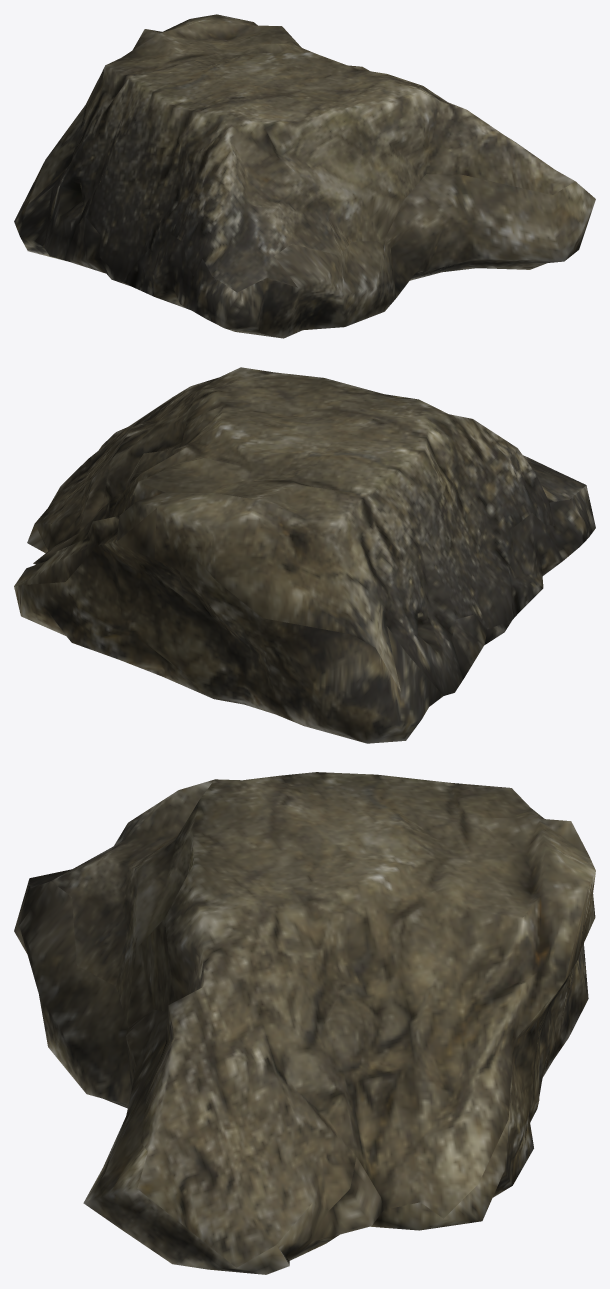
The model's file is pine_rockb_08.glb.
The picture shows the model from 3 angles, top to bottom: view 1: azimuth 30°, elevation 25°; view 2: azimuth 150°, elevation 25°; view 3: azimuth 270°, elevation 25°; orthographic projection. The views are drawn at different scales.
Visible parts, largest first — view 1: pine_rockb_08; view 2: pine_rockb_08; view 3: pine_rockb_08.
Part boxes in pixels (bbox=[...]): pine_rockb_08: bbox=[14, 14, 595, 338]; pine_rockb_08: bbox=[14, 367, 595, 743]; pine_rockb_08: bbox=[14, 772, 595, 1274].
Size of the model in its own units: 1.08 by 0.4627 by 0.875.
Materials: 1 (1 with a texture image).
